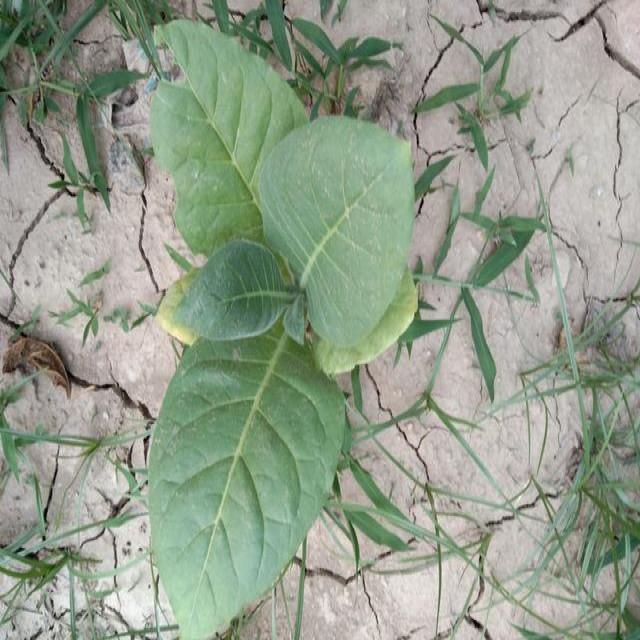crop: (134, 12, 406, 640)
